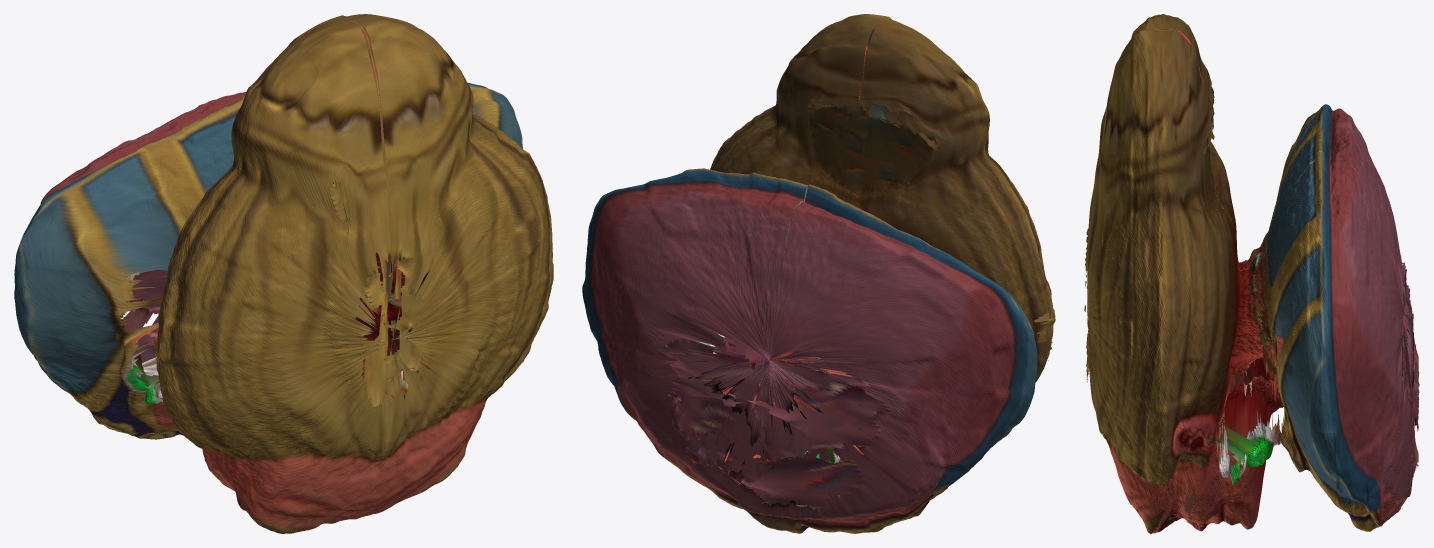
Rendered from mesh_inpaint.glb.
3 renders of one model, left to right at view 1: azimuth 30°, elevation 25°; view 2: azimuth 150°, elevation 25°; view 3: azimuth 270°, elevation 25°, orthographic. The views are drawn at different scales.
Parts seen in each view (by area): view 1: ipn, fill; view 2: ipn, fill; view 3: ipn, fill.
Part boxes in pixels (<box>): ipn: <box>14,14,553,533</box>; fill: <box>65,182,422,406</box>; ipn: <box>582,14,1055,533</box>; fill: <box>665,99,1055,508</box>; ipn: <box>1086,14,1414,533</box>; fill: <box>1084,87,1419,526</box>.
Bounding box in the file's own units: 1.83 × 1.75 × 1.07.
Materials: 2 (1 with a texture image).
